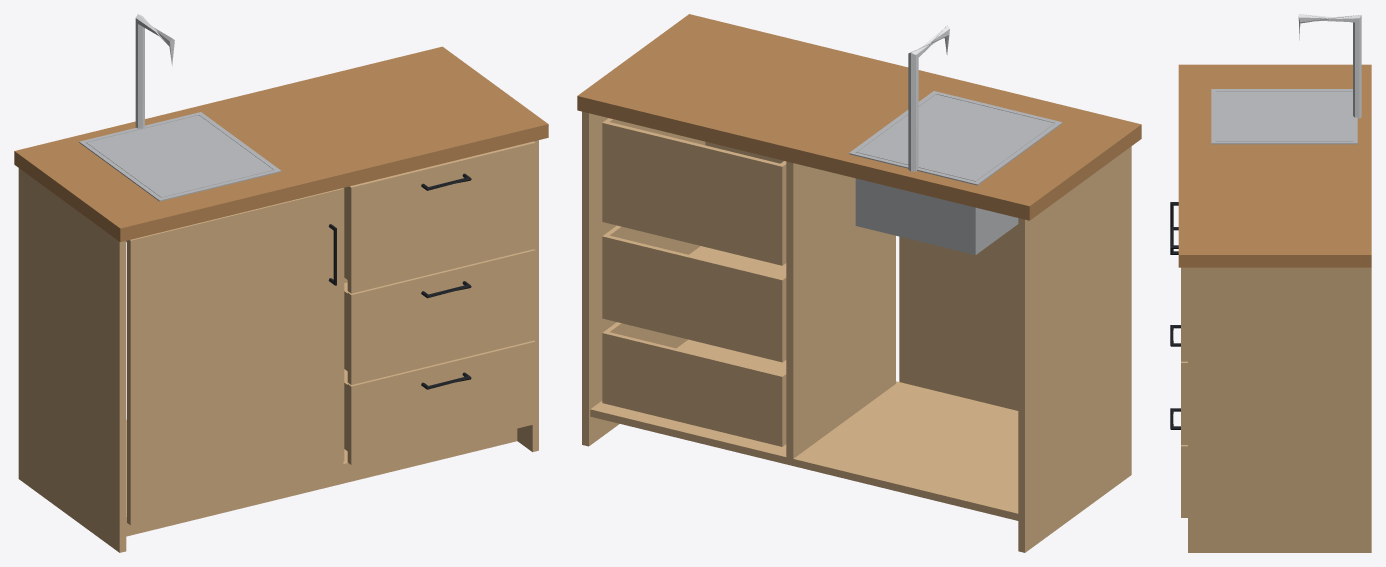
Rendered from van_galley.far.glb.
3 renders of one model, left to right at view 1: azimuth 30°, elevation 25°; view 2: azimuth 150°, elevation 25°; view 3: azimuth 270°, elevation 25°, orthographic. The views are drawn at different scales.
Visible parts, largest first — view 1: van_galley, door, drawer_3, drawer_2, drawer_1, faucet; view 2: van_galley, drawer_3, door, drawer_2, drawer_1, faucet; view 3: van_galley, faucet, drawer_3, drawer_2, drawer_1.
Boxes of the visible parts, x1,y1,x2,y2 form: van_galley: (14, 46, 548, 552); door: (127, 188, 343, 525); drawer_3: (344, 141, 535, 293); drawer_2: (344, 249, 535, 384); drawer_1: (344, 340, 535, 464); faucet: (135, 14, 174, 128); van_galley: (577, 14, 1141, 552); drawer_3: (602, 118, 786, 265); door: (899, 224, 1018, 410); drawer_2: (602, 225, 786, 362); drawer_1: (602, 322, 786, 446); faucet: (908, 25, 949, 171); van_galley: (1178, 64, 1371, 552); faucet: (1298, 14, 1361, 118); drawer_3: (1170, 227, 1187, 361); drawer_2: (1170, 325, 1187, 444); drawer_1: (1170, 408, 1187, 517).
Bounding box in the file's own units: 1.24 × 1.23 × 0.5571.
